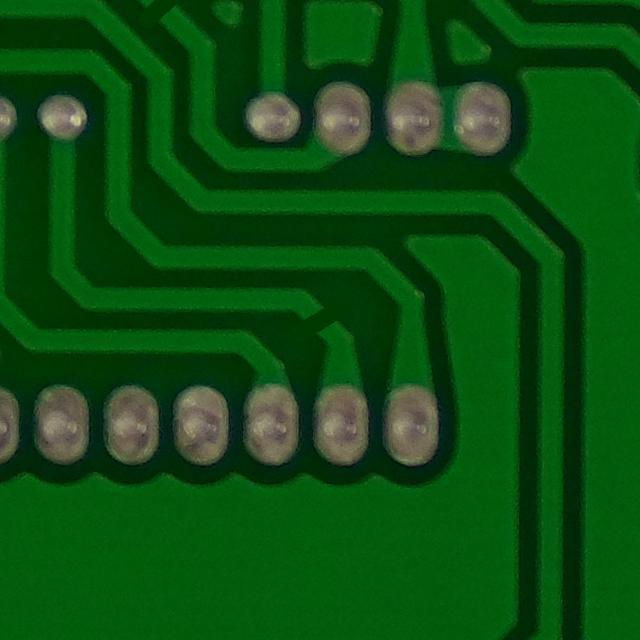open_circuit: (287, 299, 353, 342)
